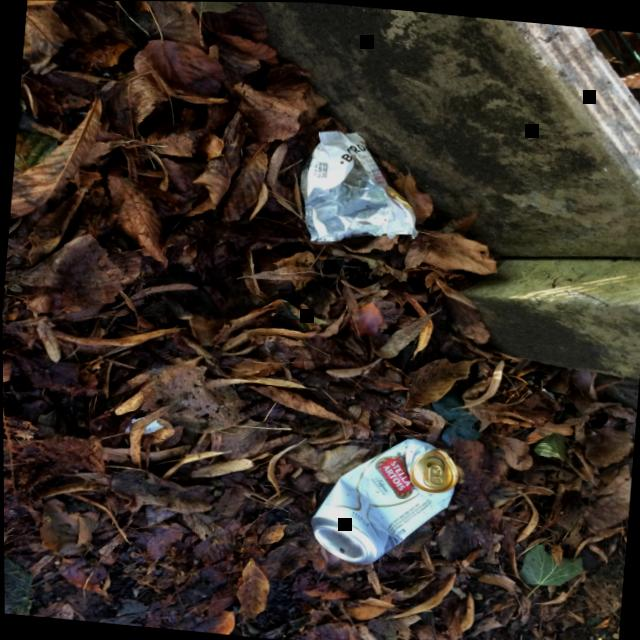Drink can: (310, 437, 457, 563)
Other plastic: (300, 129, 418, 240)
Pop tab: (427, 463, 442, 484)
